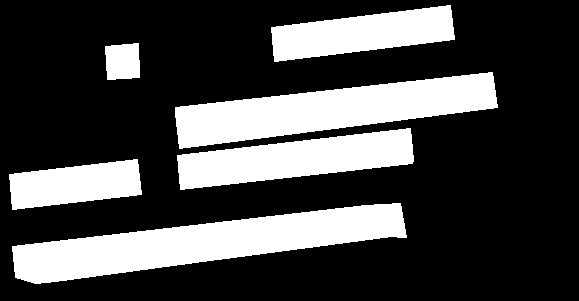parkingspot: (12, 203, 406, 283), (175, 72, 497, 148), (177, 128, 413, 189), (271, 5, 454, 61), (9, 159, 141, 209), (105, 43, 139, 79)
